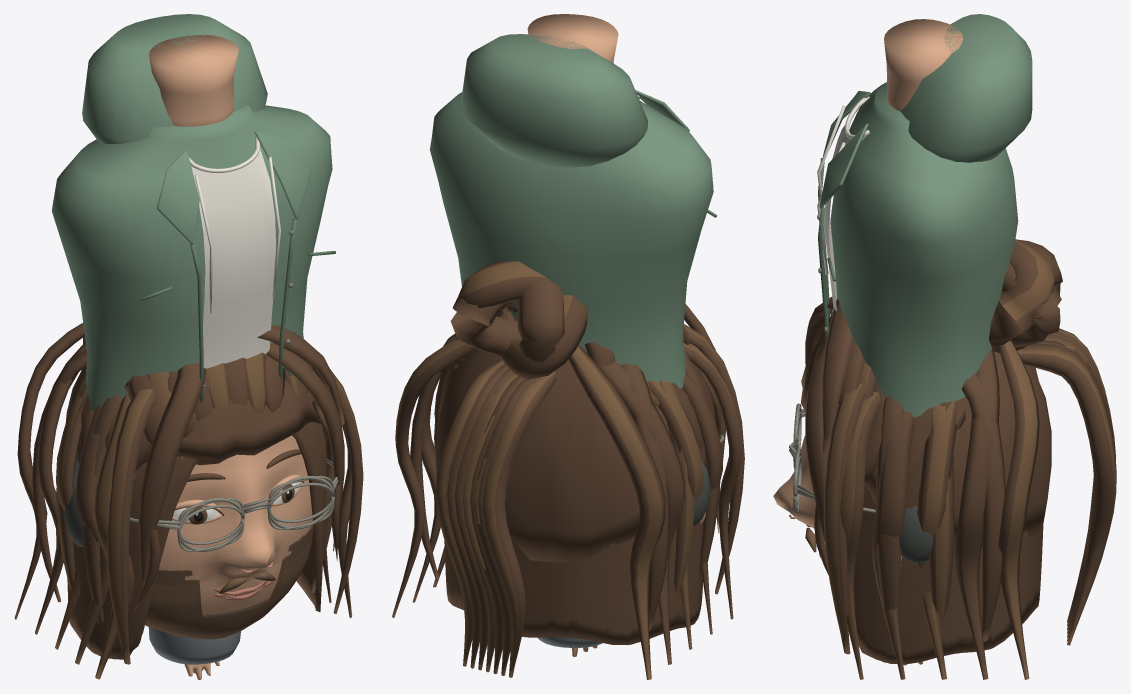
File: characters.glb
The picture shows the model from 3 angles, left to right: view 1: azimuth 30°, elevation 25°; view 2: azimuth 150°, elevation 25°; view 3: azimuth 270°, elevation 25°; orthographic projection.
Parts seen in each view (by area): view 1: torso, hair_bob, hair_wavy, tee, hoodie_details, face_round, hair_curly, neck, hair_fluffy, beard_short_angular, collar, thigh (+12 smaller); view 2: torso, hair_wavy, hair_curly, hair_ponytail, hair_bob, hoodie_details, hair_bun, neck, hair_fluffy, headphones; view 3: torso, hair_wavy, hair_bob, hoodie_details, hair_ponytail, hair_curly, hair_bun, neck, hair_side-part, collar, face_round, headphones (+4 smaller).
Part boxes in pixels (x1,y1,x2,y2): torso: (52,104,332,411); hair_bob: (32,343,363,664); hair_wavy: (14,323,352,679); tee: (189,137,276,368); hoodie_details: (82,14,292,387); face_round: (159,435,312,586); hair_curly: (56,367,328,485); neck: (149,35,238,126); hair_fluffy: (75,352,313,465); beard_short_angular: (145,525,313,635); collar: (157,131,311,244); thigh: (148,627,240,664); torso: (429,92,713,388); hair_wavy: (392,337,741,679); hair_curly: (435,339,715,562); hair_ponytail: (435,359,556,677); hair_bob: (410,304,744,644); hoodie_details: (461,34,651,167); hair_bun: (450,261,720,532); neck: (527,14,618,63); hair_fluffy: (443,326,703,548); headphones: (693,462,710,526); torso: (830,82,1018,417); hair_wavy: (840,341,1043,679); hair_bob: (805,296,1043,664); hoodie_details: (817,14,1032,314); hair_ponytail: (1017,328,1116,645); hair_curly: (801,343,1051,549); hair_bun: (814,239,1062,575); neck: (884,19,962,111); hair_side-part: (822,298,884,453); collar: (819,91,871,208); face_round: (773,435,825,545); headphones: (899,487,932,563).
Bounding box in the file's own units: 0.526 × 1.17 × 0.5818.
